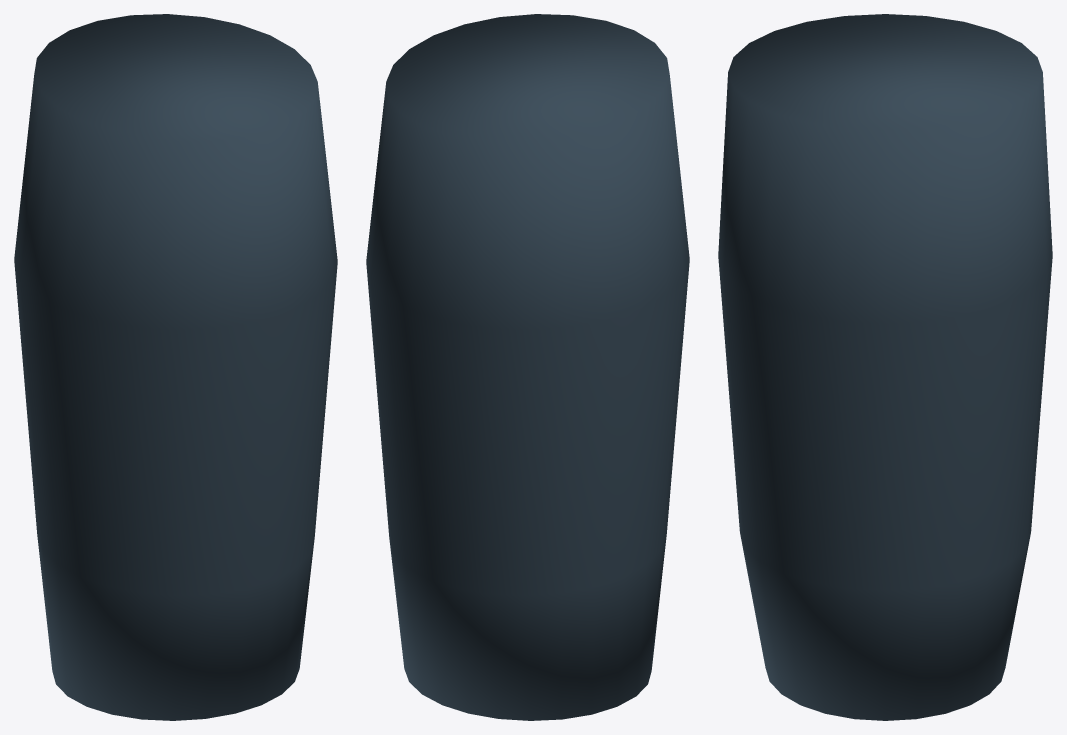
The model's file is SM_Teacher_UpperArm.glb.
3 views of the same model, side by side, from view 1: azimuth 30°, elevation 25°; view 2: azimuth 150°, elevation 25°; view 3: azimuth 270°, elevation 25° (orthographic).
Visible parts, largest first — view 1: SM_Teacher_UpperArm; view 2: SM_Teacher_UpperArm; view 3: SM_Teacher_UpperArm.
Boxes of the visible parts, left/top/right/bottom form: SM_Teacher_UpperArm: left=14, top=14, right=337, bottom=720; SM_Teacher_UpperArm: left=366, top=14, right=689, bottom=720; SM_Teacher_UpperArm: left=718, top=14, right=1052, bottom=720.
Size of the model in its own units: 0.164 by 0.334 by 0.17.
